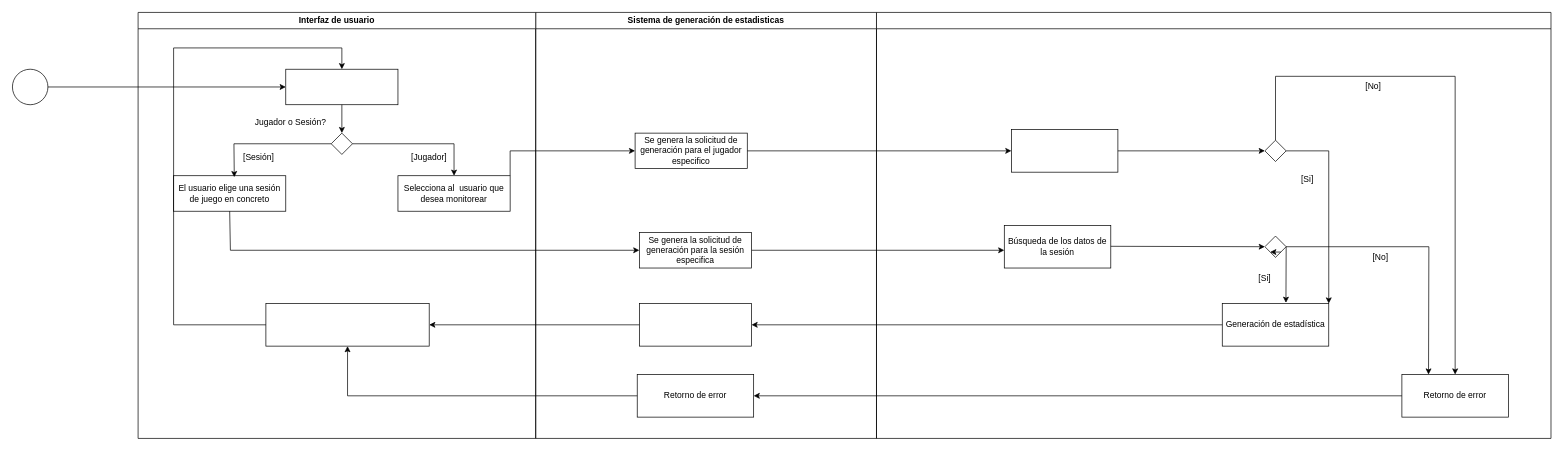
Image size: 1563x451. Some labels were removed from this diagram. Here are the shapes that lost their labels. From the top down, the box of each, then its label:
(285, 69, 398, 105): Usuario accede al panel de estadisticas
(1011, 129, 1118, 172): Búsqueda de los datos del jugador
(876, 12, 1551, 438): Base de datos
(265, 303, 429, 346): Renderizado del panel de estadisticas
(639, 303, 752, 346): Formateo de datos (Generación de gráficos, truncado de tiempo )
